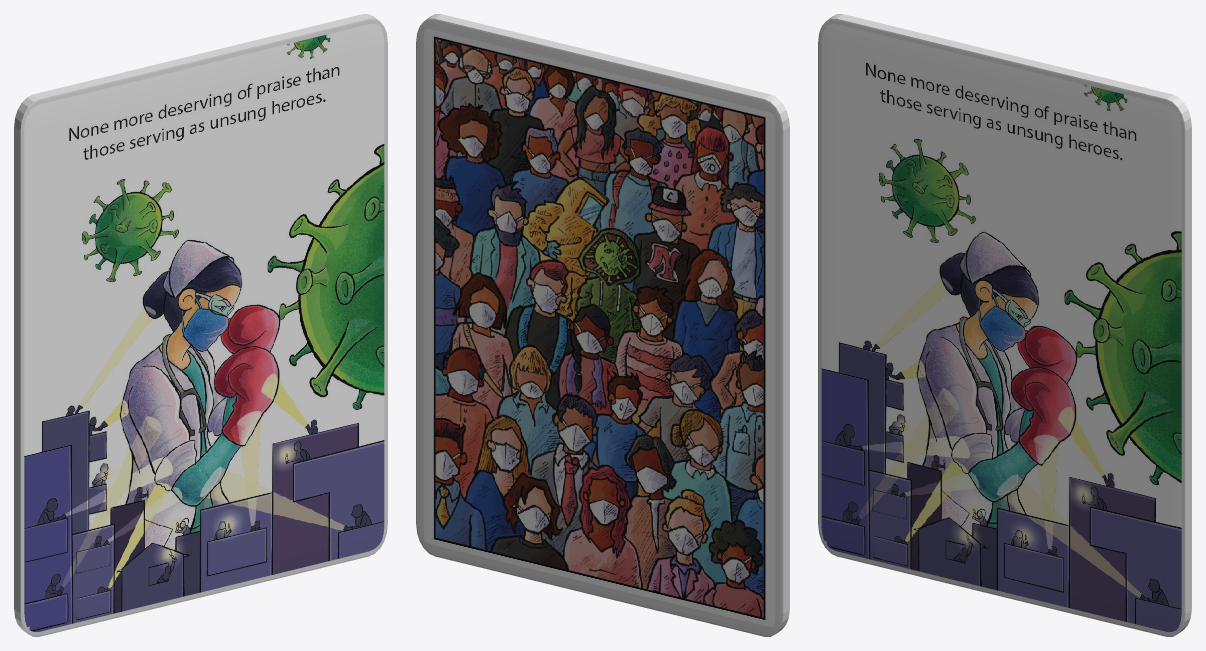
Rendered from dark times 2020 playing card final.glb.
The picture shows the model from 3 angles, left to right: view 1: azimuth 30°, elevation 25°; view 2: azimuth 150°, elevation 25°; view 3: azimuth 330°, elevation 25°; orthographic projection.
Parts seen in each view (by area): view 1: Cube; view 2: Cube; view 3: Cube.
Part boxes in pixels (x1,y1,x2,y2): Cube: (14, 14, 387, 636); Cube: (416, 14, 789, 636); Cube: (818, 14, 1191, 636).
Bounding box in the file's own units: 5.96 × 8.34 × 0.2.
Materials: 3 (2 with a texture image).
